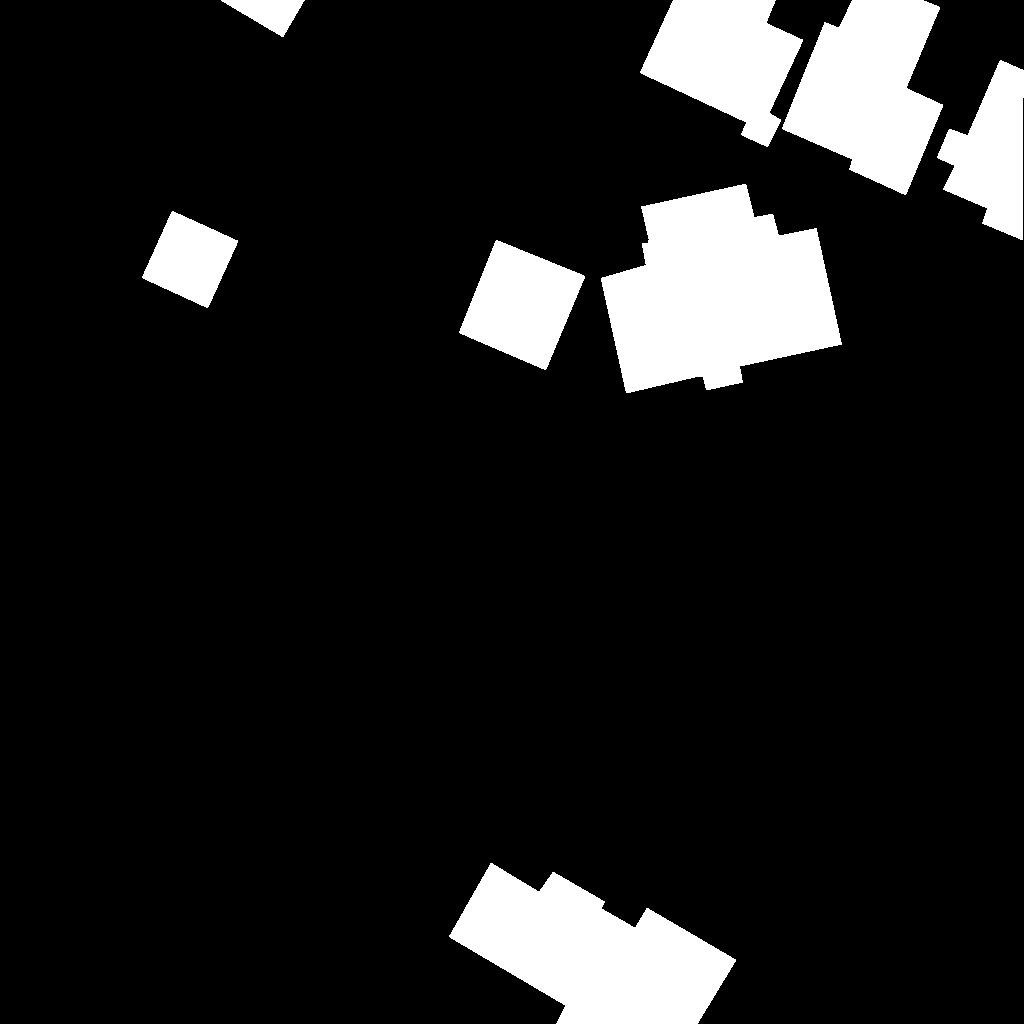building: (601, 184, 843, 394), (449, 863, 737, 1024), (782, 0, 944, 196), (640, 0, 804, 148), (459, 240, 586, 371), (937, 60, 1024, 241), (142, 211, 239, 309), (220, 0, 306, 38)
